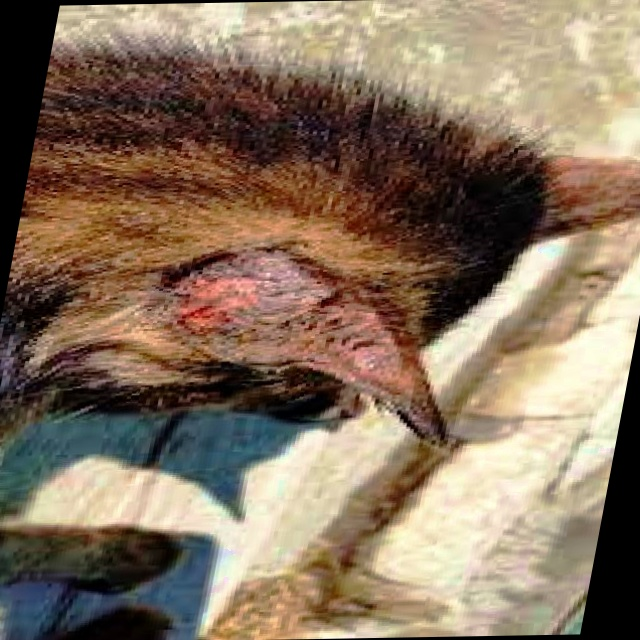ringworm: (137, 252, 372, 351)
